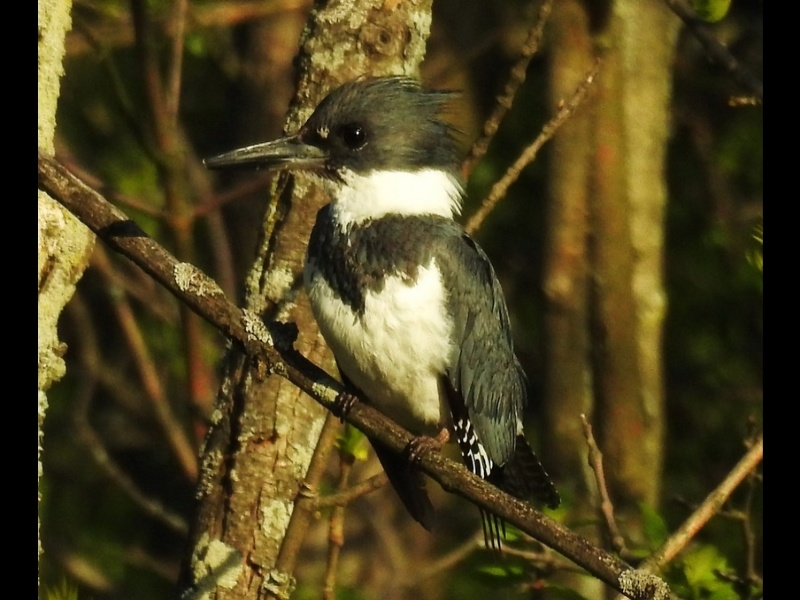kingfisher: (197, 74, 566, 547)
